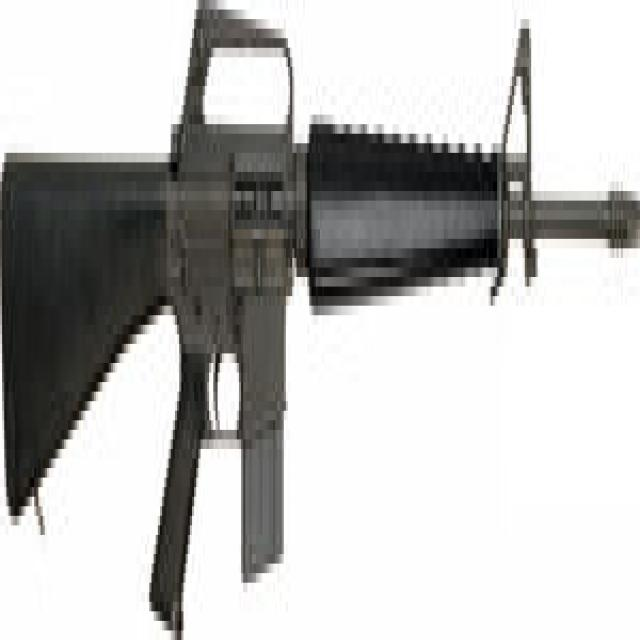rifle: (1, 8, 640, 633)
